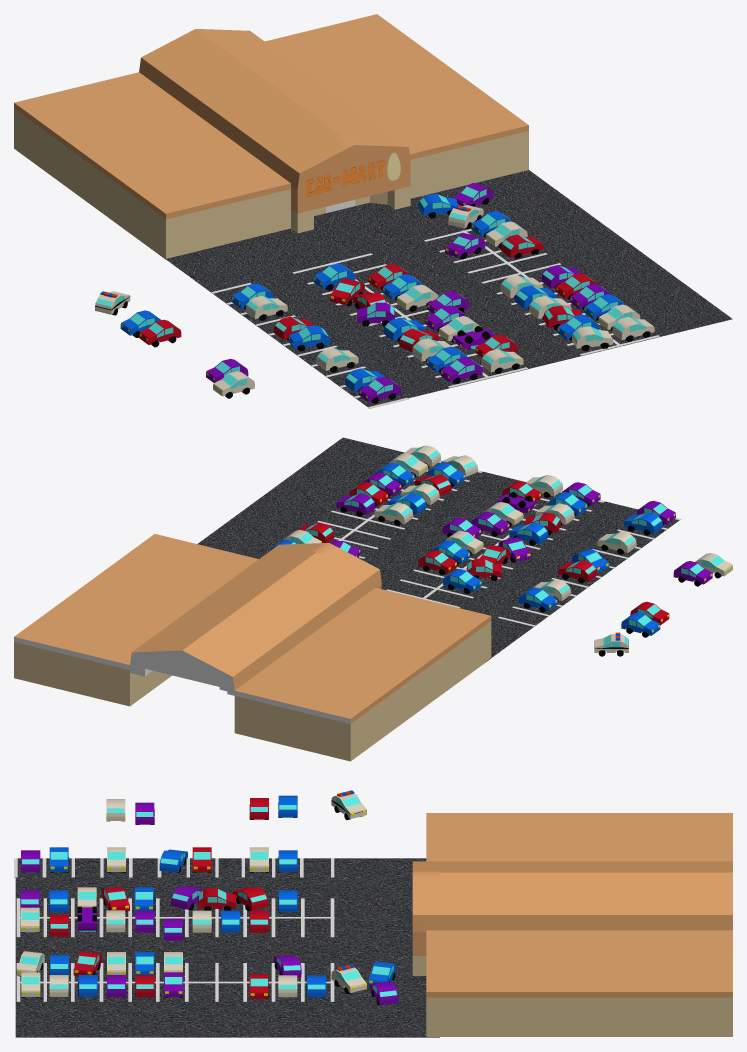
The model's file is Eggmart.fbx.
The picture shows the model from 3 angles, top to bottom: view 1: azimuth 30°, elevation 25°; view 2: azimuth 150°, elevation 25°; view 3: azimuth 270°, elevation 25°; orthographic projection. The views are drawn at different scales.
Visible parts, largest first — view 1: pCylinder41, pCube70, pCube69, pCube71; view 2: pCylinder41, pCylinder39, pCylinder40, pCube71, pCube69; view 3: pCylinder41, pCube71, pCylinder39, pCylinder40, pCube69, pCube70.
Part boxes in pixels (left/top/right/bottom): pCylinder41: left=14, top=14, right=732, bottom=408; pCube70: left=139, top=319, right=181, bottom=347; pCube69: left=213, top=371, right=254, bottom=398; pCube71: left=95, top=291, right=130, bottom=315; pCylinder41: left=14, top=437, right=681, bottom=761; pCylinder39: left=673, top=561, right=712, bottom=586; pCylinder40: left=621, top=612, right=660, bottom=637; pCube71: left=594, top=632, right=628, bottom=656; pCube69: left=695, top=553, right=732, bottom=578; pCylinder41: left=14, top=813, right=732, bottom=1037; pCube71: left=331, top=790, right=366, bottom=819; pCylinder39: left=135, top=802, right=154, bottom=824; pCylinder40: left=278, top=795, right=297, bottom=817; pCube69: left=106, top=799, right=125, bottom=821; pCube70: left=249, top=798, right=268, bottom=819.
Size of what is drawn, in the model's own units: 57.9 by 9.04 by 75.48.
15 materials, 2 textured.
